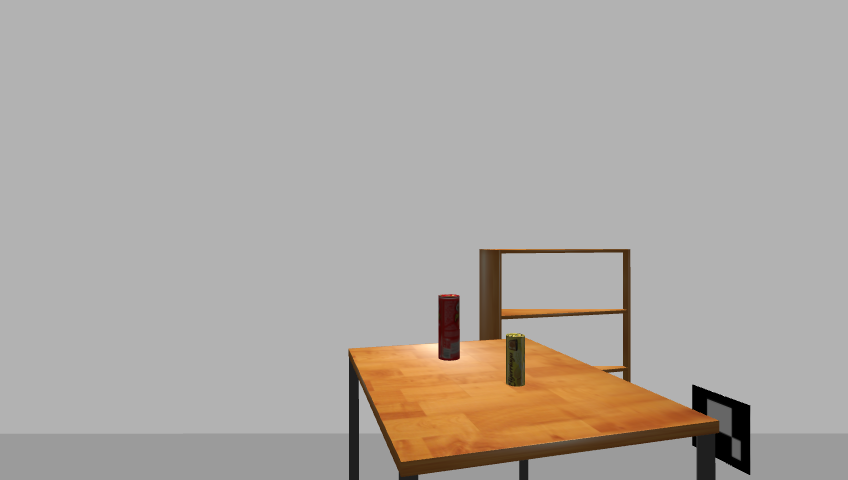aruco marker: (687, 384, 757, 477)
biscuits pack: (505, 333, 527, 388)
bookshelf: (475, 245, 638, 394)
dinner table: (340, 337, 726, 480)
pringles can: (436, 293, 462, 362)
